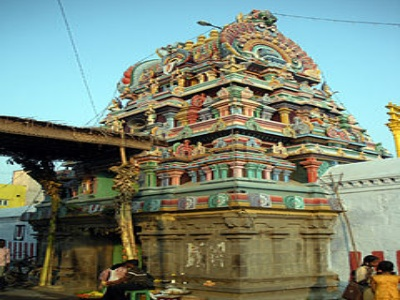gopura: (89, 22, 361, 191)
